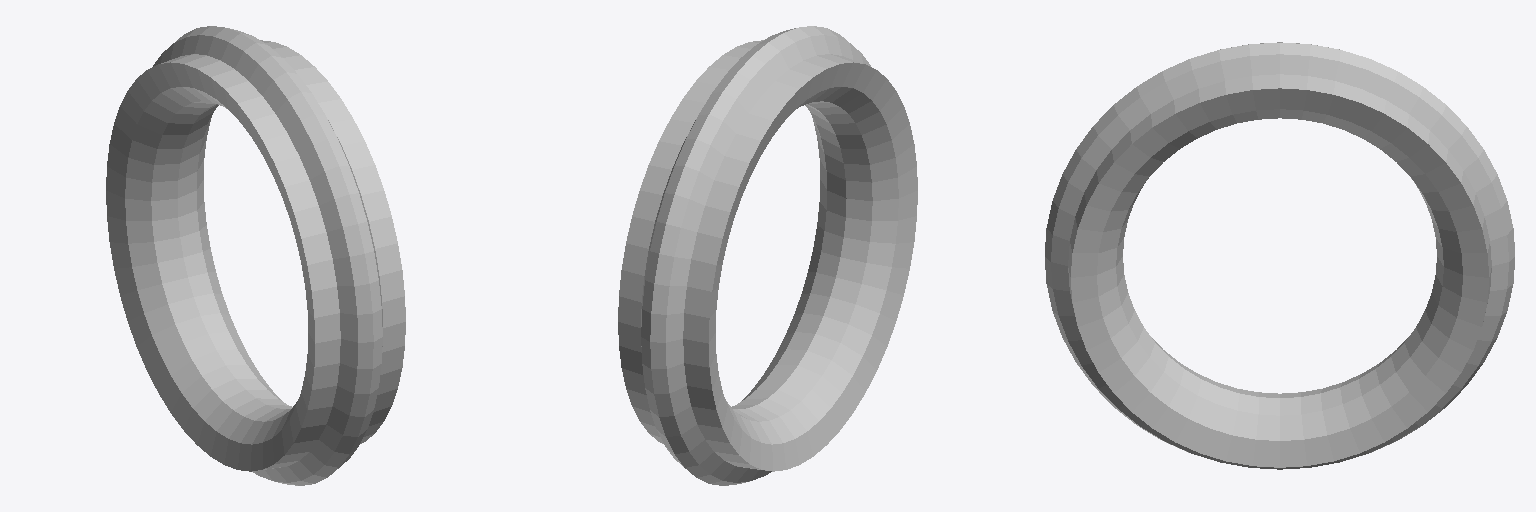
The model's file is Ridged Torus.obj.
3 renders of one model, left to right at view 1: azimuth 30°, elevation 25°; view 2: azimuth 150°, elevation 25°; view 3: azimuth 270°, elevation 25°, orthographic.
Visible parts, largest first — view 1: ridgerino_Torus; view 2: ridgerino_Torus; view 3: ridgerino_Torus.
Part boxes in pixels (bbox=[...]): ridgerino_Torus: bbox=[106, 26, 405, 485]; ridgerino_Torus: bbox=[618, 26, 917, 485]; ridgerino_Torus: bbox=[1045, 42, 1514, 469].
Size of the model in its own units: 0.225 by 1.01 by 1.01.